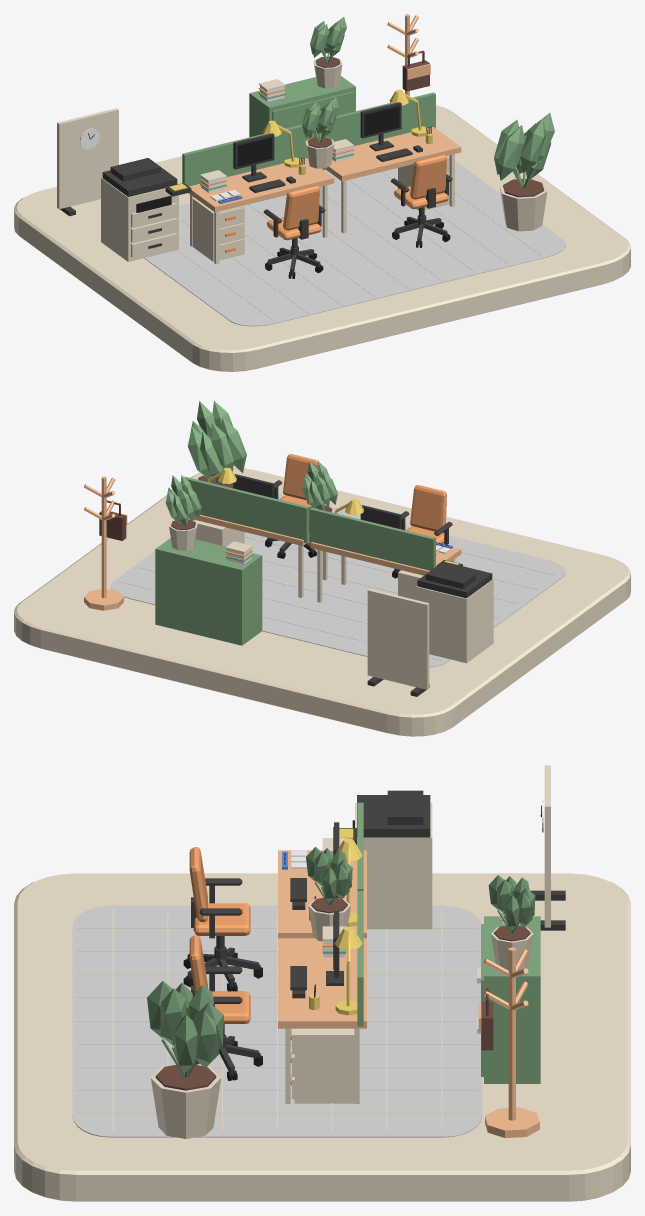
File: room.fbx
3 views of the same model, one above another, from view 1: azimuth 30°, elevation 25°; view 2: azimuth 150°, elevation 25°; view 3: azimuth 270°, elevation 25° (orthographic). The views are drawn at different scales.
Visible parts, largest first — view 1: AST-001-0, AST-002-0, AST-009-0, AST-3111-031, AST-010-2, AST-004-1, AST-004-0, AST-015-0, AST-3180-030, AST-003-0, AST-003-1, AST-013-0 (+8 smaller); view 2: AST-001-0, AST-002-0, AST-015-0, AST-009-0, AST-3111-031, AST-013-0, AST-013-1, AST-010-2, AST-003-0, AST-010-1, AST-016-0, AST-3180-030 (+10 smaller); view 3: AST-001-0, AST-002-0, AST-009-0, AST-010-2, AST-004-1, AST-015-0, AST-3180-030, AST-008-1, AST-003-0, AST-016-0, AST-010-1, AST-003-1 (+7 smaller).
Part boxes in pixels (x1,y1,x2,y2): AST-001-0: (14,105,630,371); AST-002-0: (144,160,565,326); AST-009-0: (101,158,191,261); AST-3111-031: (57,108,118,216); AST-010-2: (494,113,554,231); AST-004-1: (319,127,461,233); AST-004-0: (188,158,334,264); AST-015-0: (249,76,355,170); AST-3180-030: (158,169,556,321); AST-003-0: (263,185,325,278); AST-003-1: (390,154,452,247); AST-013-0: (182,124,308,186); AST-001-0: (14,467,630,736); AST-002-0: (110,494,565,667); AST-015-0: (155,538,262,645); AST-009-0: (416,559,493,663); AST-3111-031: (367,589,429,696); AST-013-0: (309,507,435,570); AST-013-1: (184,476,308,543); AST-010-2: (187,400,246,488); AST-003-0: (392,485,452,578); AST-010-1: (165,475,201,550); AST-016-0: (84,476,123,610); AST-3180-030: (120,510,556,660); AST-001-0: (14,873,630,1201); AST-002-0: (72,905,482,1137); AST-009-0: (339,790,432,929); AST-010-2: (147,981,223,1138); AST-004-1: (278,938,366,1103); AST-015-0: (477,916,540,1083); AST-3180-030: (76,909,478,1132); AST-008-1: (290,1028,354,1103); AST-003-0: (183,847,262,991); AST-016-0: (483,947,539,1137); AST-010-1: (488,875,535,969); AST-003-1: (189,935,262,1080).
Size of the model in its own units: 600 by 217 by 520.
